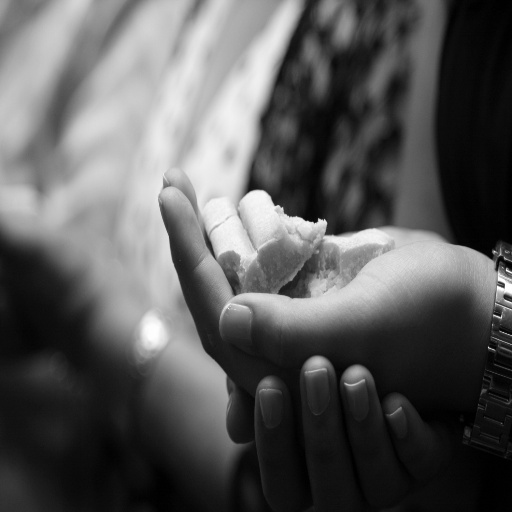hand: (155, 165, 499, 420), (226, 377, 453, 511)
